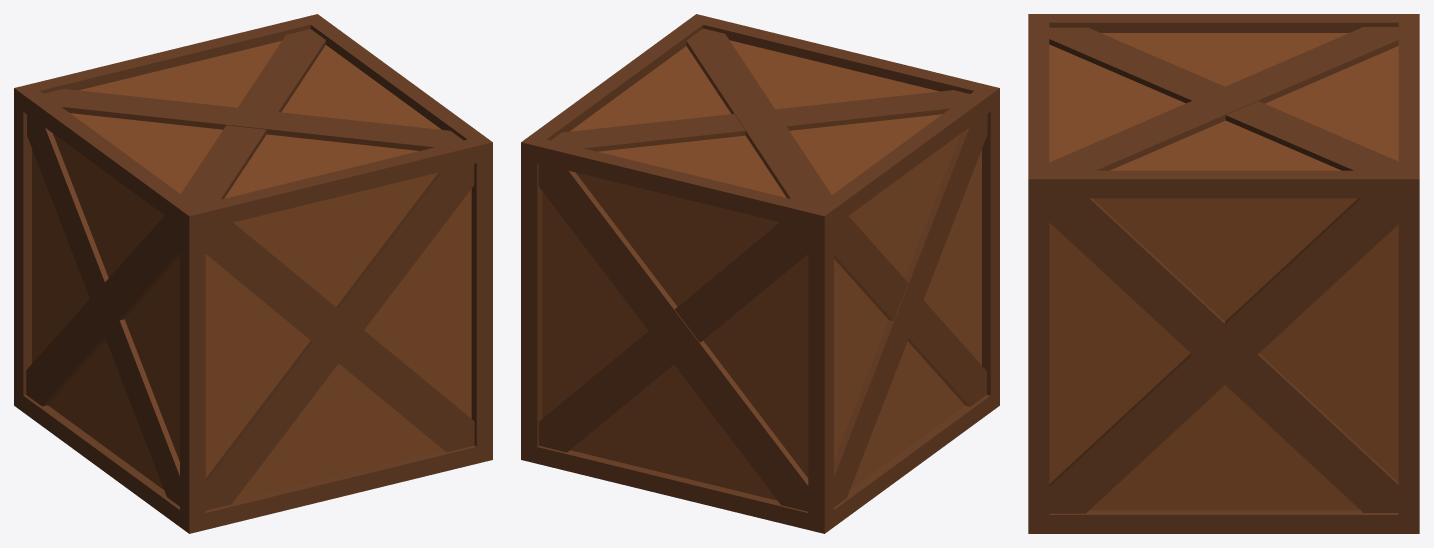
3 renders of one model, left to right at view 1: azimuth 30°, elevation 25°; view 2: azimuth 150°, elevation 25°; view 3: azimuth 270°, elevation 25°, orthographic. The views are drawn at different scales.
Visible parts, largest first — view 1: Box_1; view 2: Box_1; view 3: Box_1.
Part boxes in pixels (x1,y1,x2,y2): Box_1: (14,14,492,533); Box_1: (521,14,999,533); Box_1: (1028,14,1419,533).
Bounding box in the file's own units: 100 × 100 × 100.
